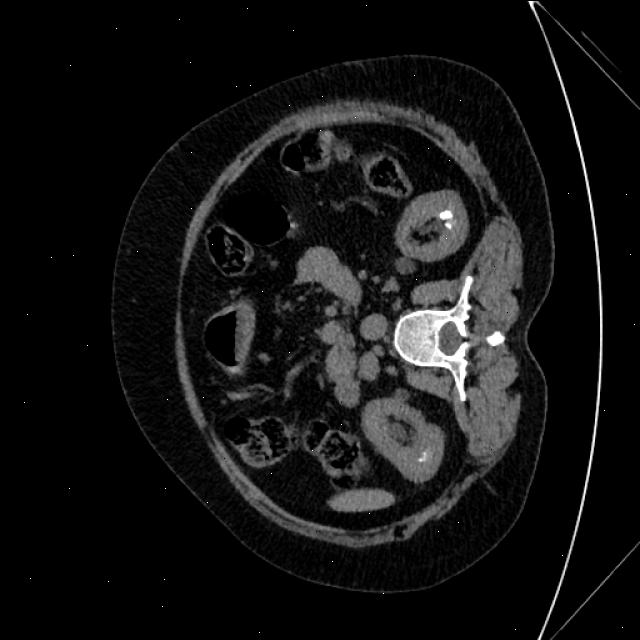kidneystone: (439, 209, 453, 229)
